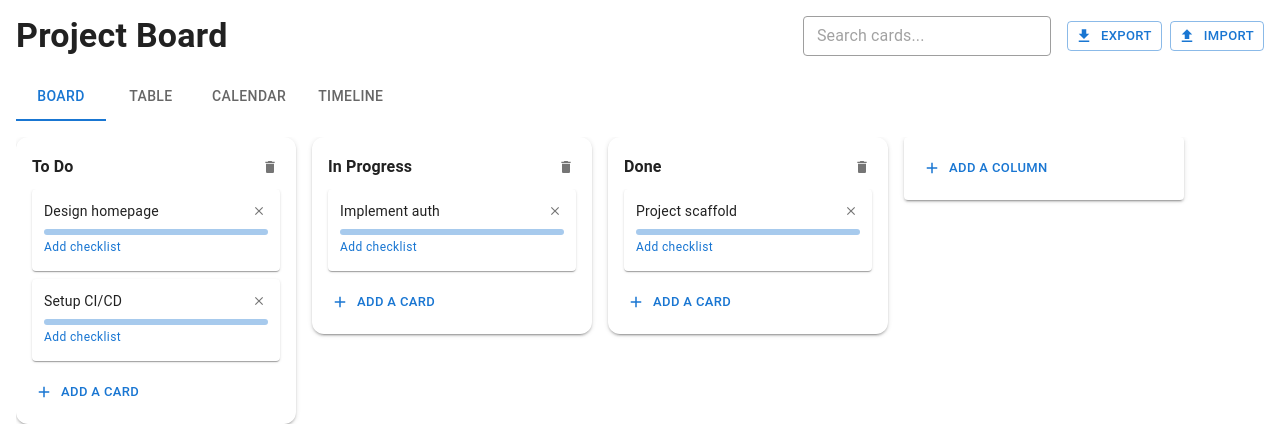
Test: BoardPage › switches card to editing mode on click
Double-click the text "Design homepage" at {"x": 101, "y": 211}, box [44,203,159,219]
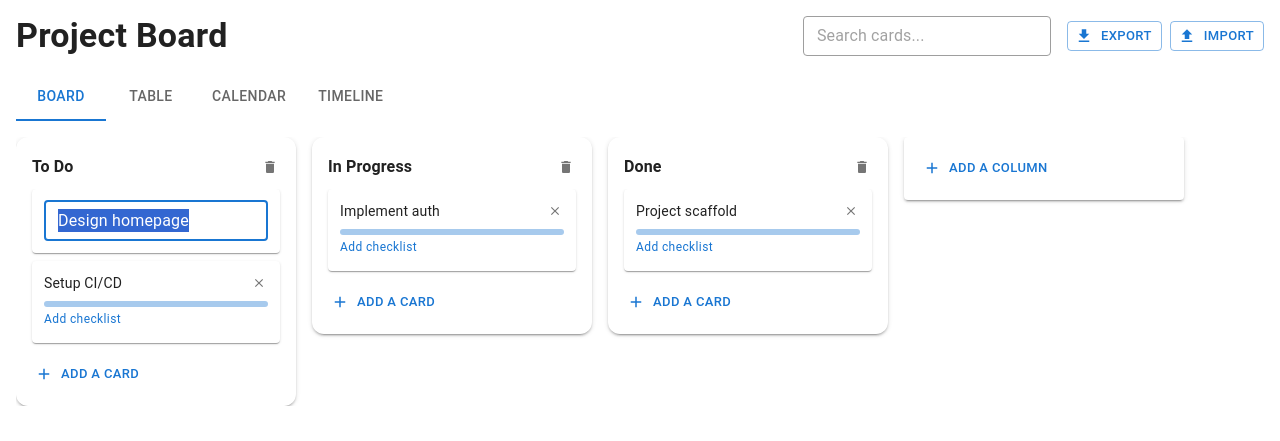
Now the field showing "Design homepage" is shown, box [44,201,268,241]
